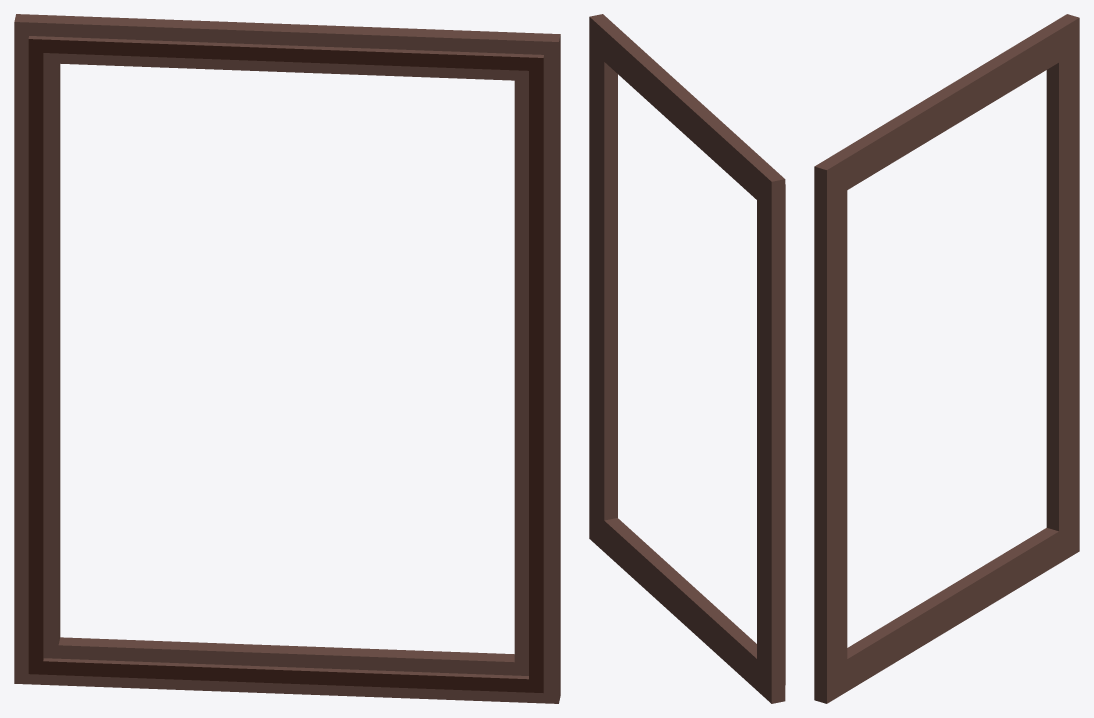
The model's file is Picture frame.obj.
3 renders of one model, left to right at view 1: azimuth 30°, elevation 25°; view 2: azimuth 150°, elevation 25°; view 3: azimuth 270°, elevation 25°, orthographic. The views are drawn at different scales.
Visible parts, largest first — view 1: Box001; view 2: Box001; view 3: Box001.
Part boxes in pixels (bbox=[...]): Box001: bbox=[14, 14, 560, 703]; Box001: bbox=[589, 14, 785, 703]; Box001: bbox=[814, 14, 1079, 703].
Bounding box in the file's own units: 413782 × 659030 × 296856.
